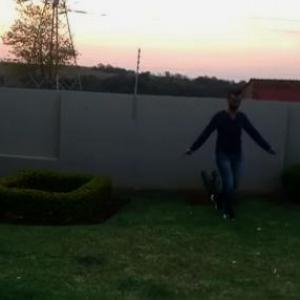land: (190, 102, 272, 216)
